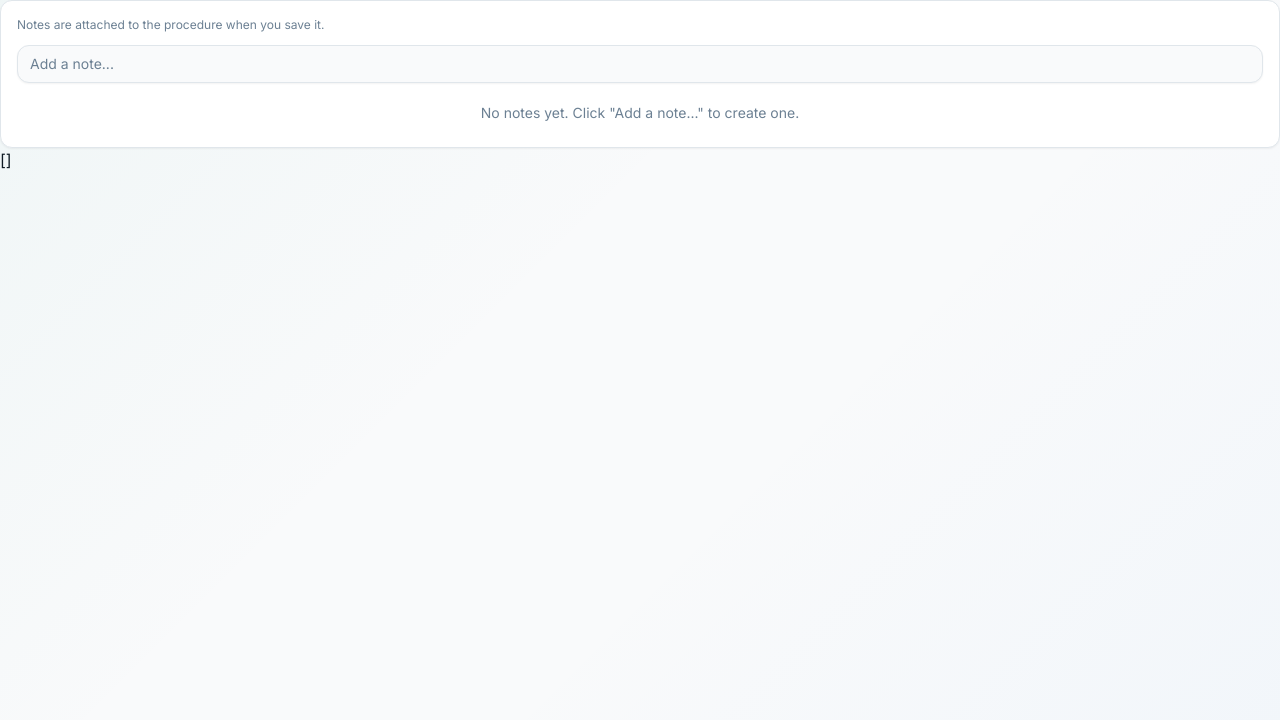
Test: StickyNotes - composer defaults › treats a blank default as no default, not as a blank title
The width and height of the screenshot is (1280, 720).
Click the button "Add a note..." at (72, 64), box [17, 45, 1263, 83]
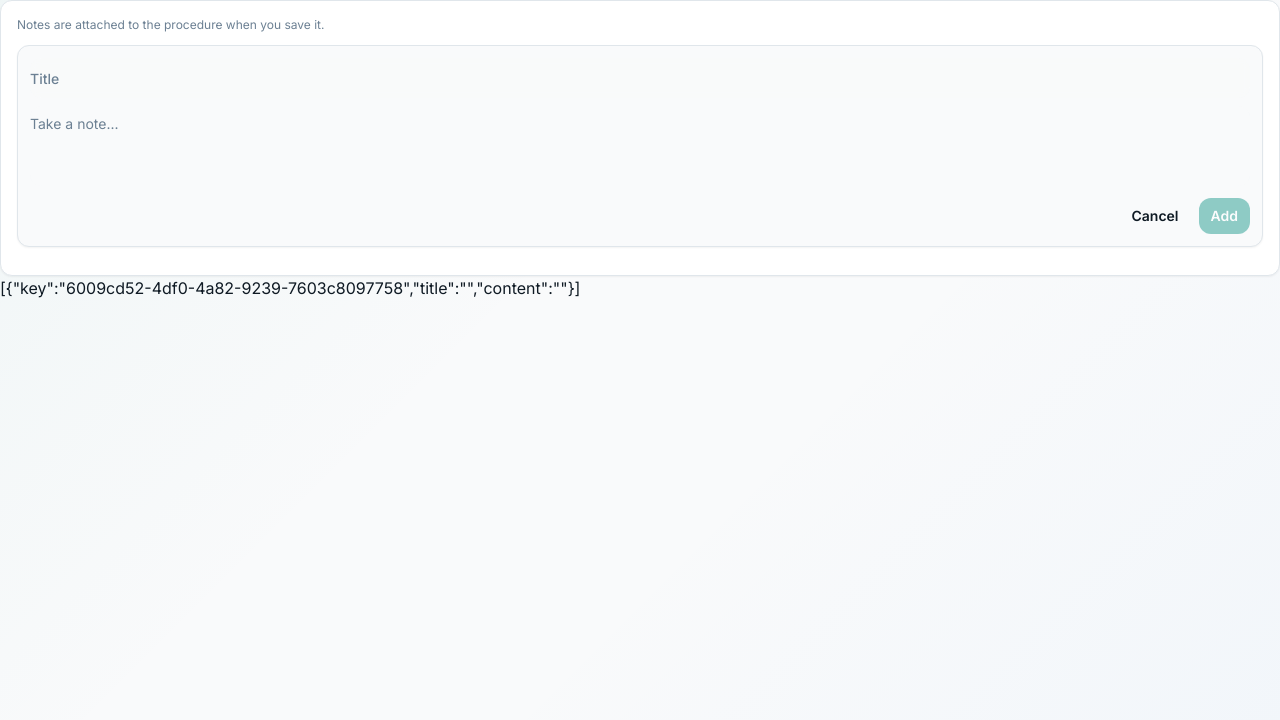
Result: the field with placeholder "Title" is empty at [30, 58, 1250, 98]
